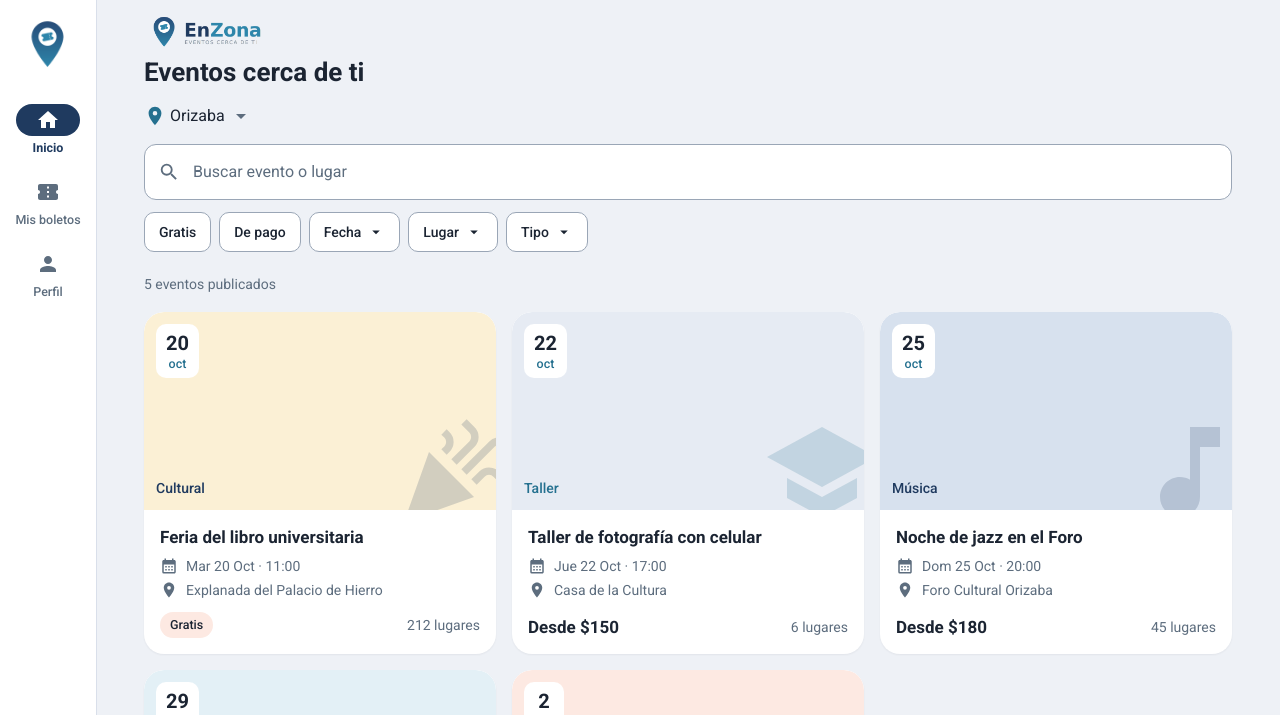
Test: descubrimiento de eventos (RF-05 a RF-07, RF-19) › cambia de zona y ofrece volver a Orizaba si no hay eventos
This screenshot has width=1280, height=715.
Expected: the heading "Noche de jazz en el Foro" is shown, [896,527,1083,547]
Click the button with aria-label "Zona: Orizaba" at (198, 116), box [144,92,253,140]
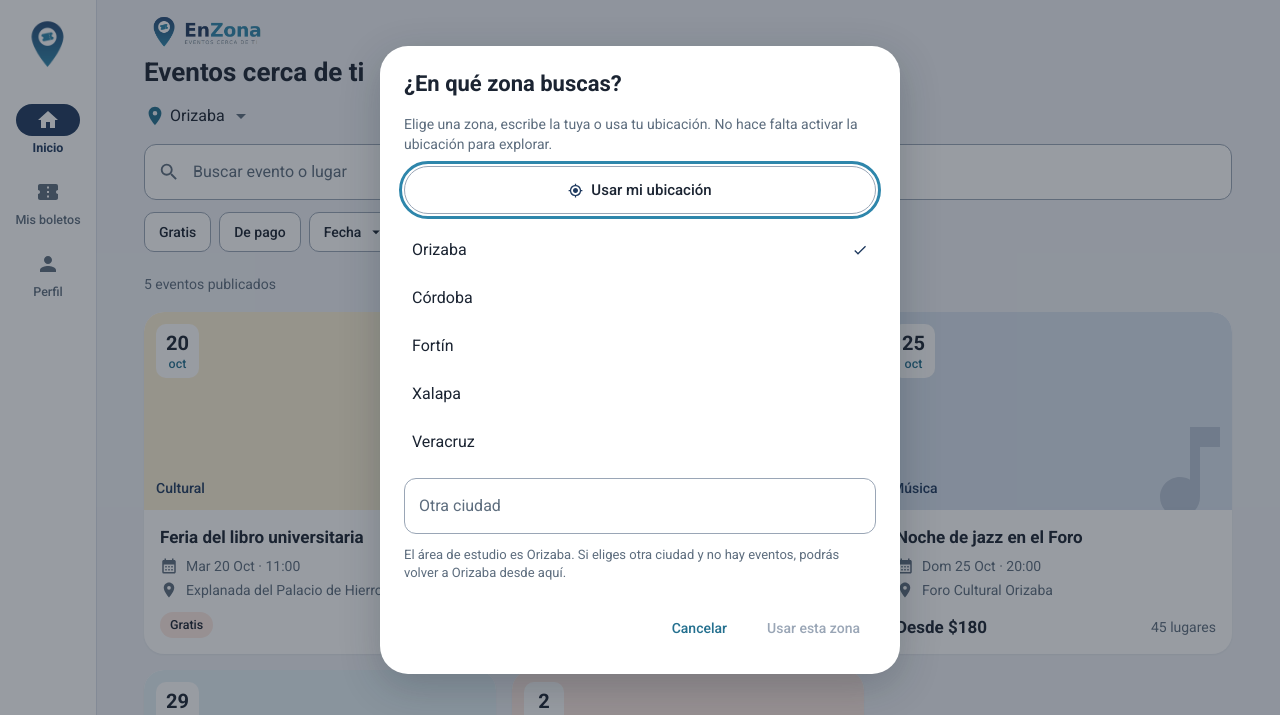
Click the button "Xalapa" at (437, 394), box [404,370,876,418]
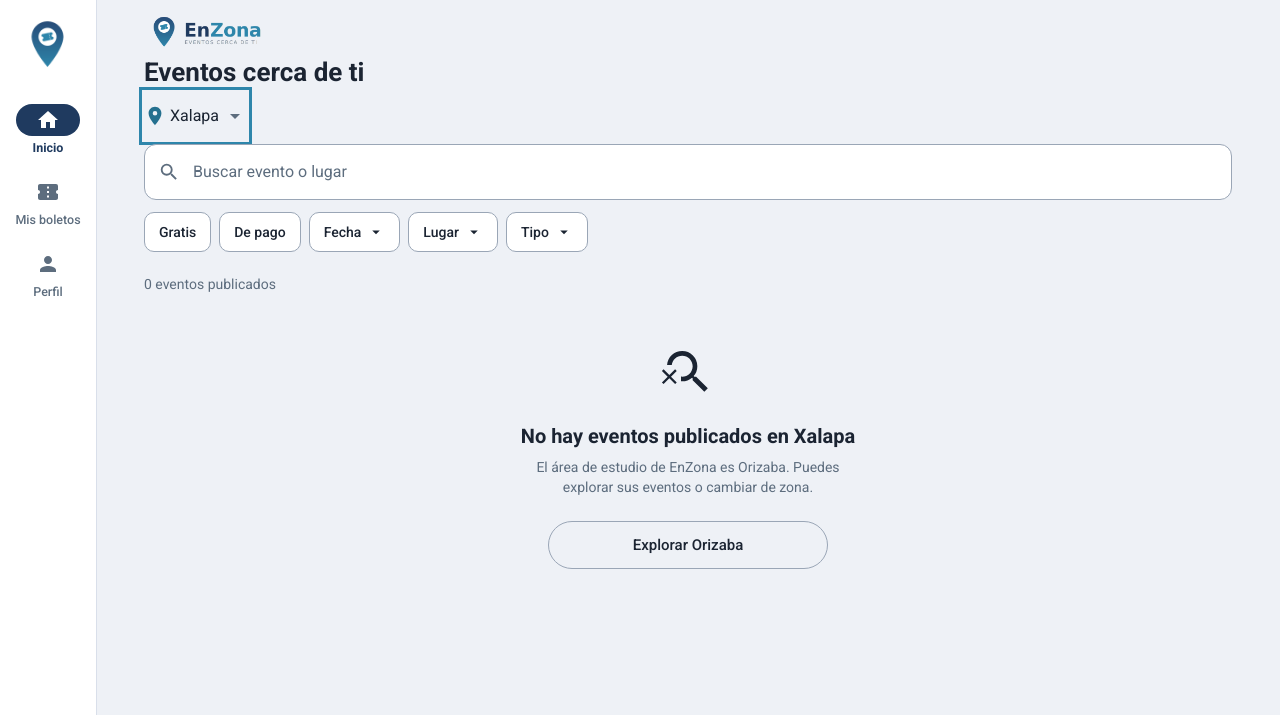
Expected: the heading "No hay eventos publicados en Xalapa" is shown, [521,423,855,449]
Click the button "Explorar Orizaba" at (688, 545), box [548,521,828,569]
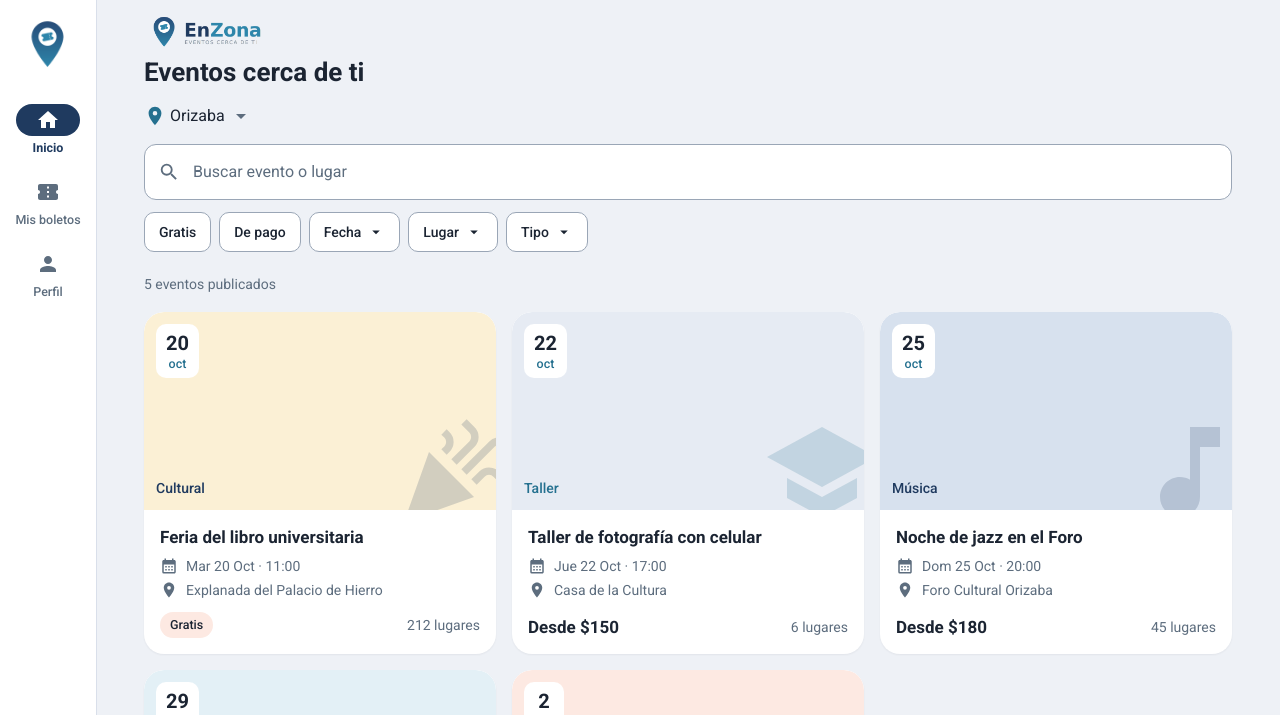
Expected: the heading "Noche de jazz en el Foro" is shown, [896,527,1083,547]
